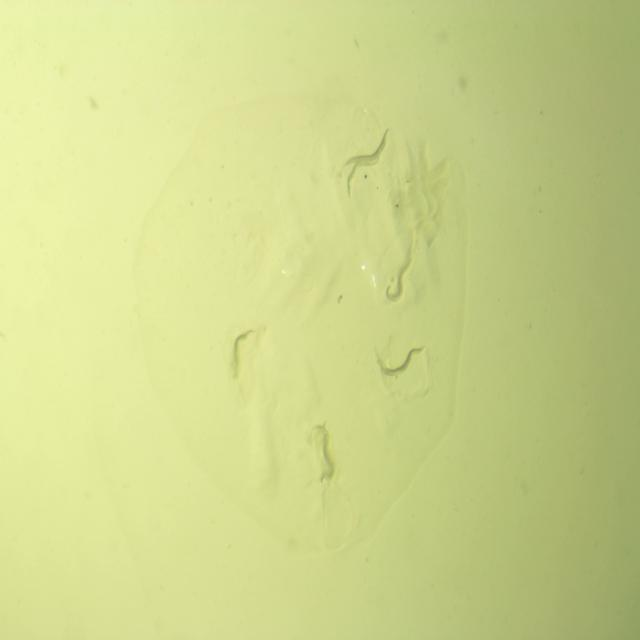worm: (343, 123, 392, 171), (376, 341, 428, 383), (345, 151, 382, 203), (309, 420, 339, 484), (226, 327, 256, 382), (383, 257, 415, 307)
